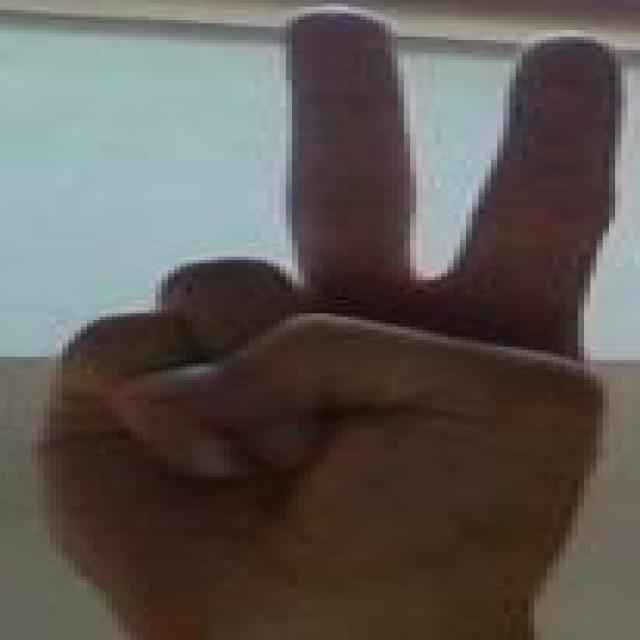V: (5, 4, 640, 610)
